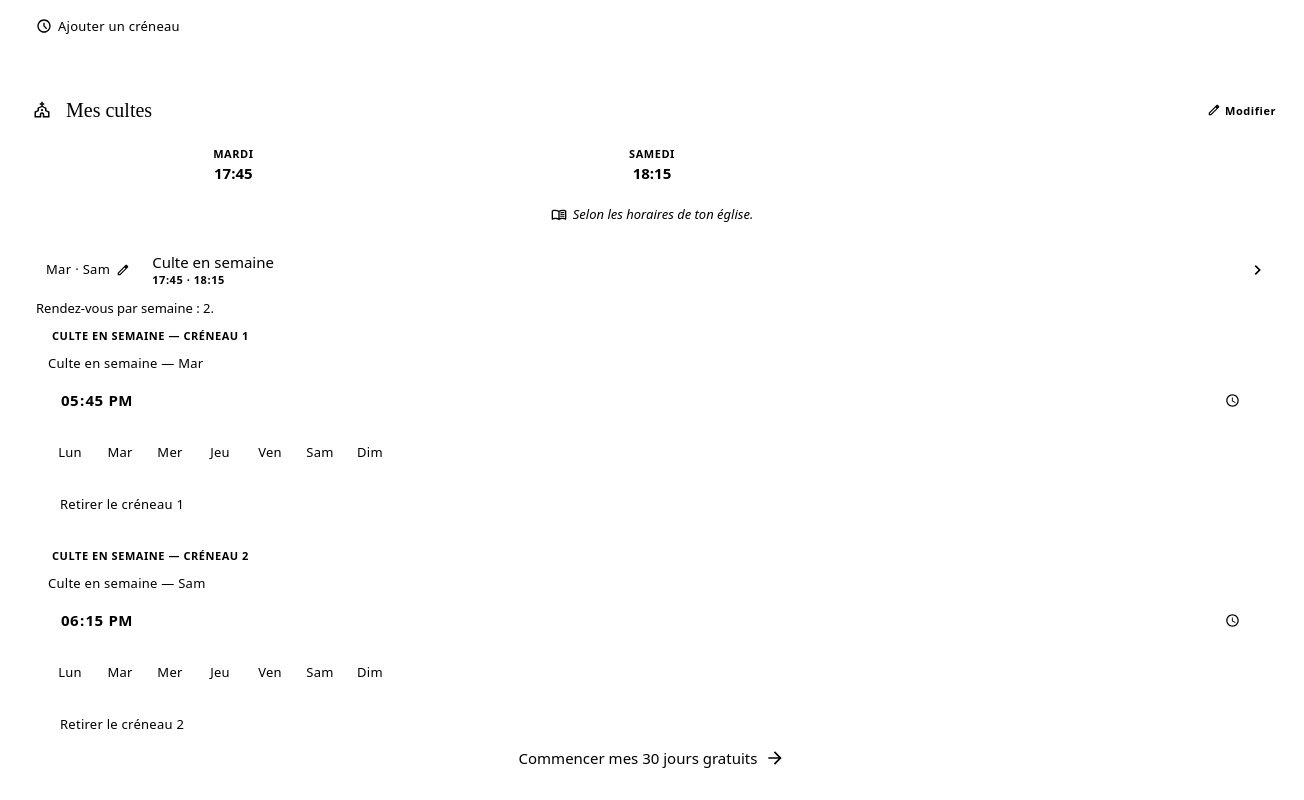
Test: le récapitulatif suit immédiatement une modification du formulaire sans inscription
This screenshot has width=1304, height=800.
(page scrolled)
Replace the text in the time field labelled "Culte en semaine — Mar" with "19:10" at (652, 400), box 48,378 -> 1256,422
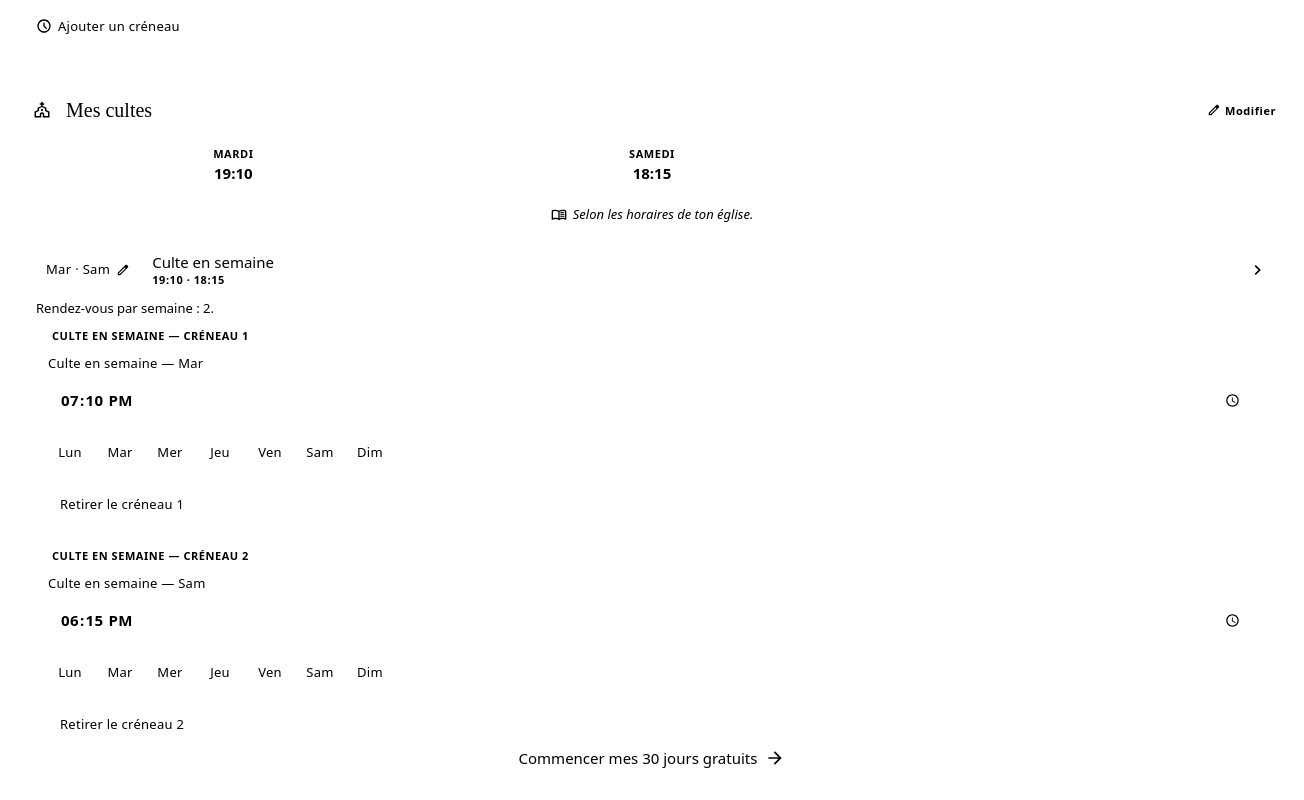
Expected: the button "Commencer mes 30 jours gratuits" is disabled, 12,732 -> 1292,784
Now the heading "17:45" is gone
